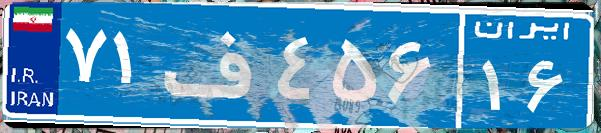1: (475, 38, 525, 113), (110, 28, 158, 105)
4: (273, 28, 330, 110)
5: (330, 28, 385, 110)
6: (385, 28, 445, 110), (525, 38, 570, 115)
7: (57, 26, 110, 107)
ف: (158, 15, 273, 115)
